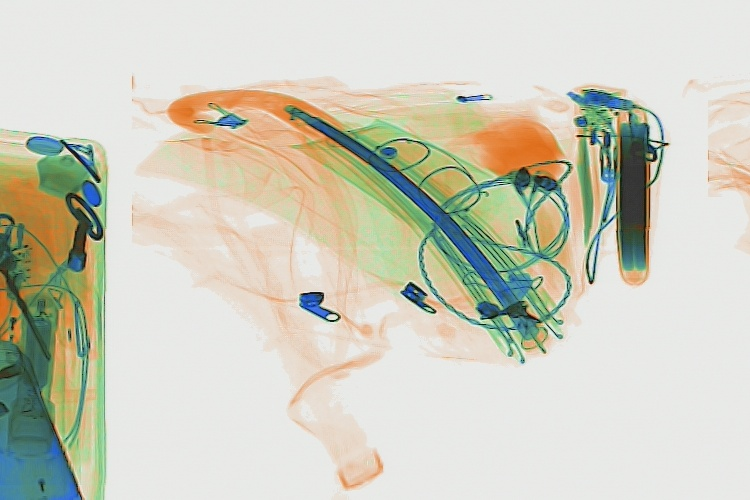lighter: (1, 275, 25, 372)
powerbank: (613, 107, 652, 286)
